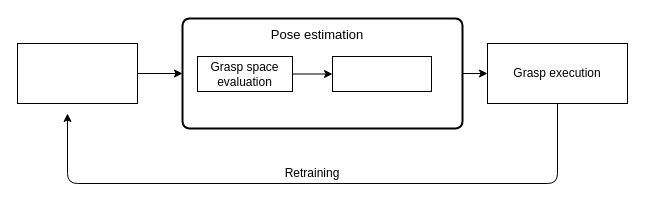
Image size: 645x209. Some labels were removed from this diagram. Here are the shapes that lost their labels. From the top down, the box of each, then its label:
(16, 42, 138, 104): Data Preprocessing
(332, 56, 432, 92): Grasp selection
